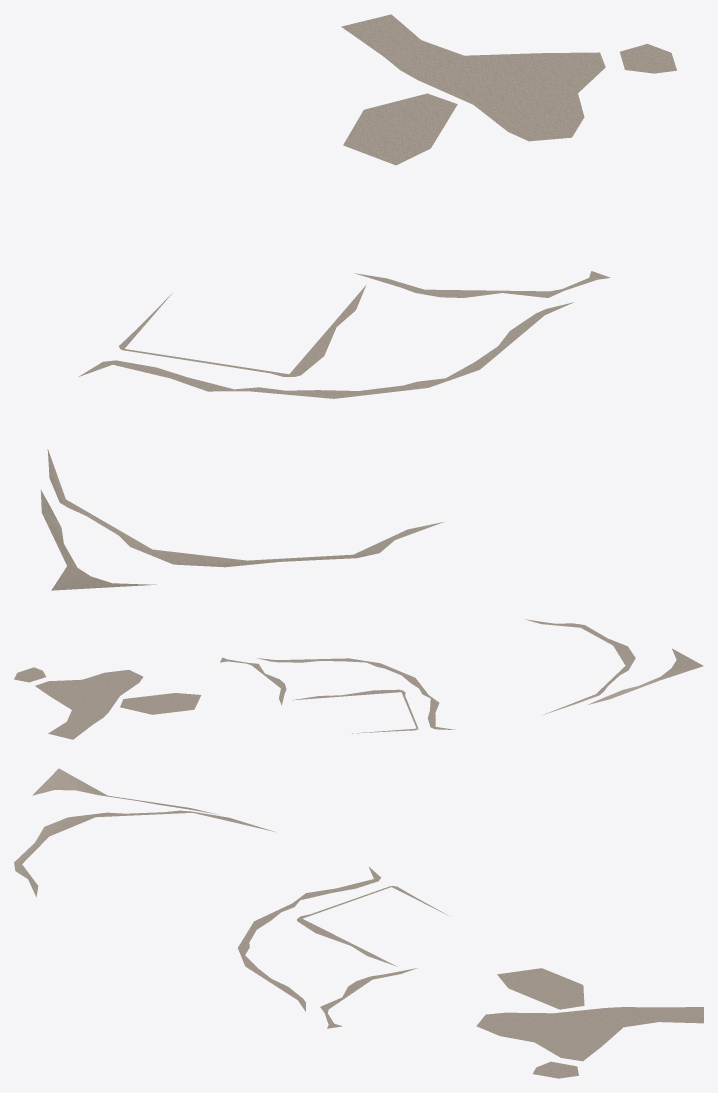
File: kd_stage_135fe0_5_33_bounded.glb
3 views of the same model, one above another, from view 1: azimuth 30°, elevation 25°; view 2: azimuth 150°, elevation 25°; view 3: azimuth 270°, elevation 25° (orthographic). The views are drawn at different scales.
Visible parts, largest first — view 1: kd_stage_135fe0_5_33_bounded; view 2: kd_stage_135fe0_5_33_bounded; view 3: kd_stage_135fe0_5_33_bounded.
Boxes of the visible parts, x1,y1,x2,y2 form: kd_stage_135fe0_5_33_bounded: (40, 14, 676, 590); kd_stage_135fe0_5_33_bounded: (14, 619, 703, 739); kd_stage_135fe0_5_33_bounded: (14, 768, 703, 1078).
Size of the model in its own units: 11.03 by 0.4199 by 9.96.
1 material, 1 textured.
